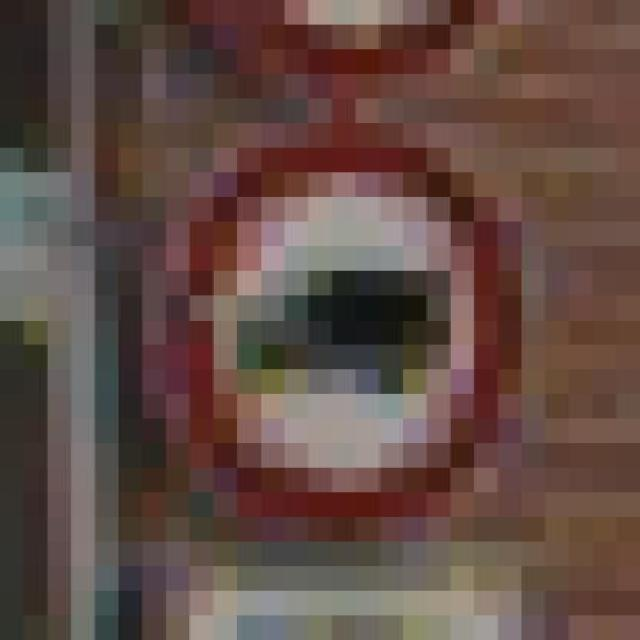Truck traffic is prohibited: (142, 98, 546, 517)
